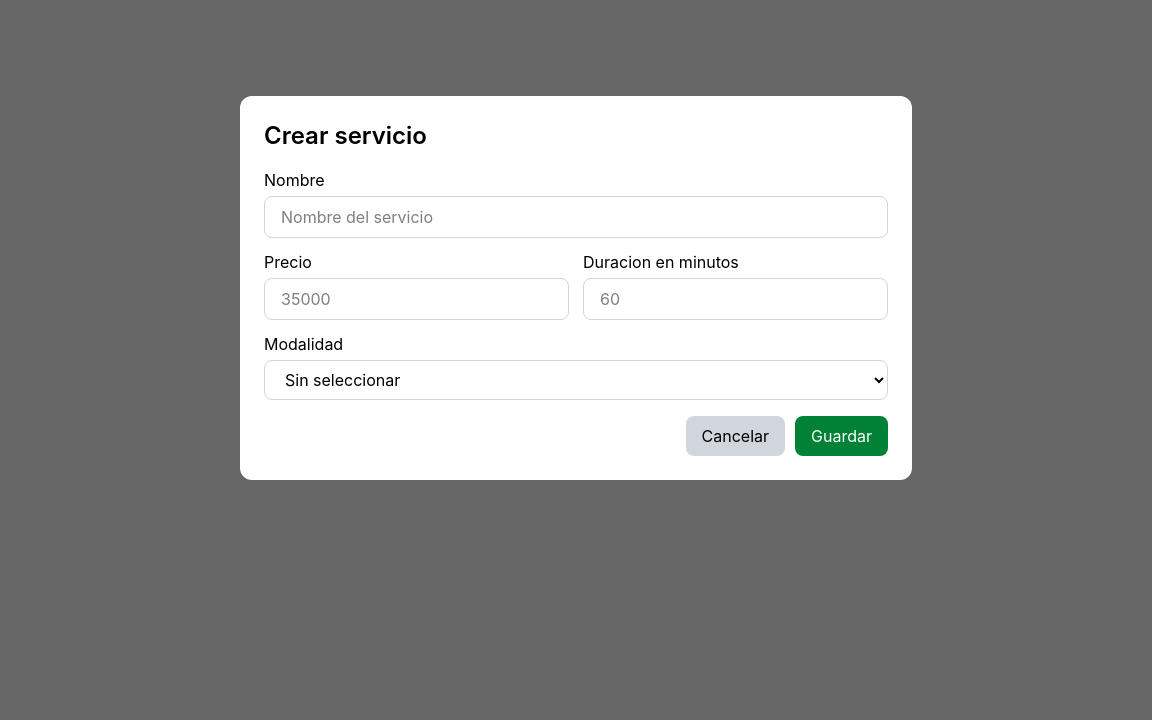
FormularioServicio › Modo creacion › muestra errores si el precio y la duración no son mayores a cero
Type "0" into the number field with placeholder "35000" at (416, 299), box 264,278 -> 569,320
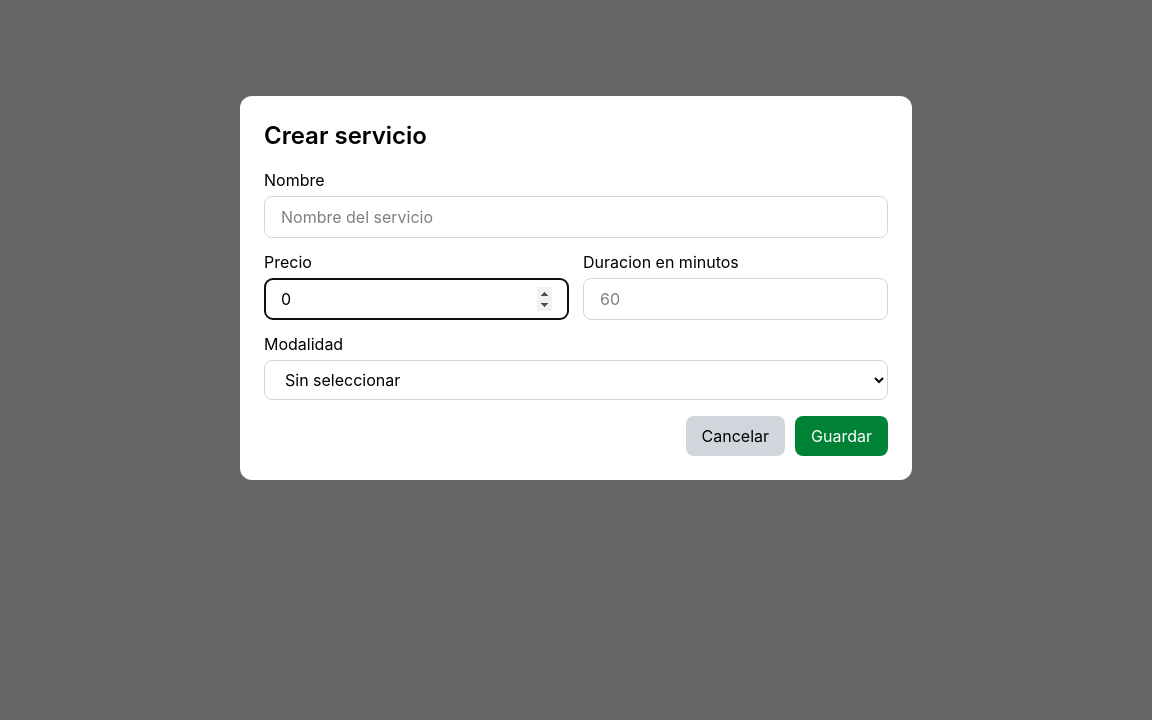
Type "0" into the number field with placeholder "60" at (736, 299), box 583,278 -> 888,320
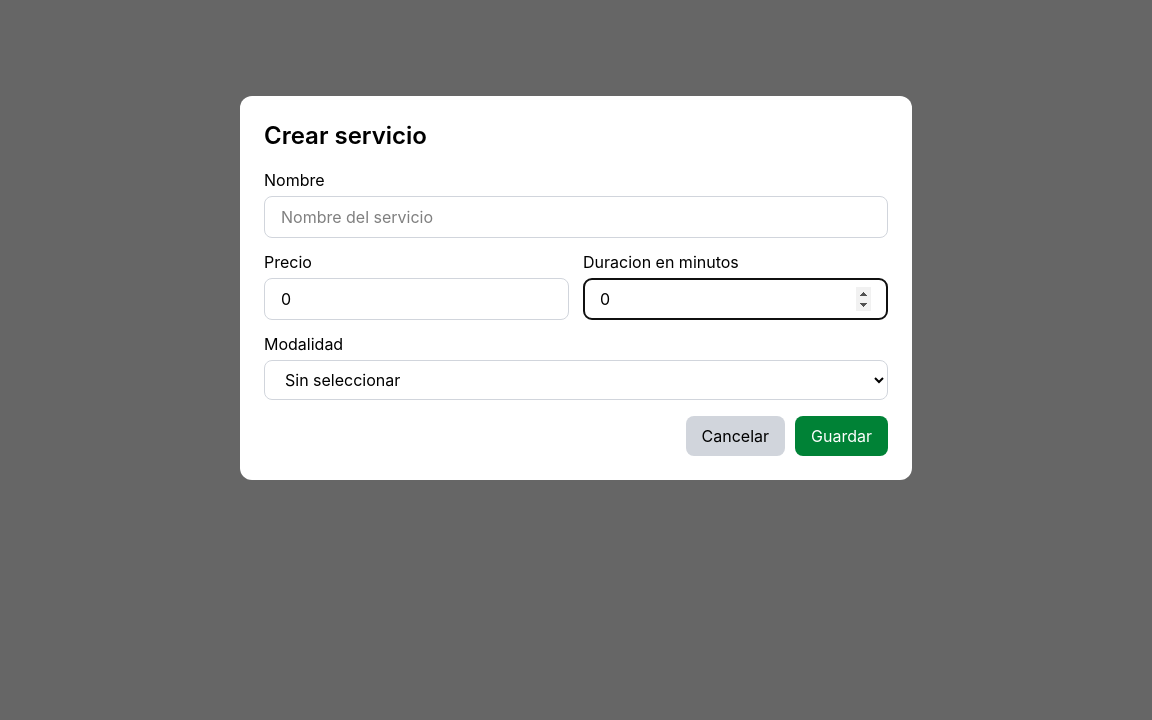
Click the button "Guardar" at (842, 436), box 795,416 -> 888,456
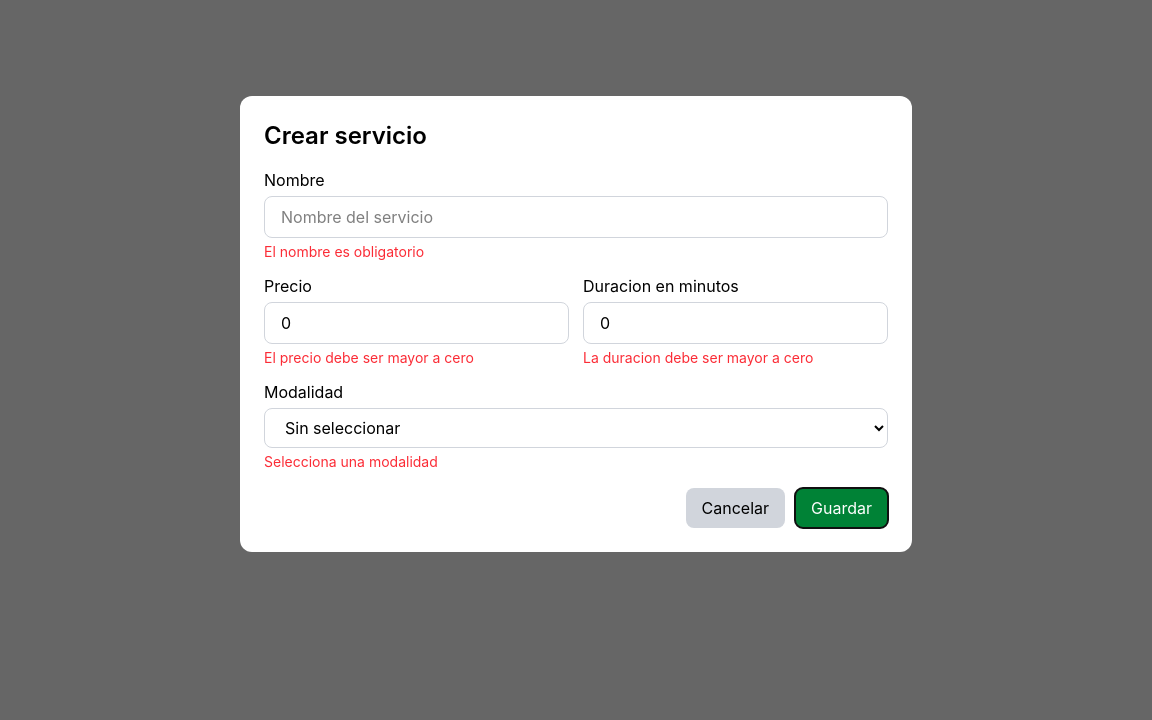
Check: the text "El precio debe ser mayor a cero" is shown, box 264,349 -> 474,366
Check: the text "La duracion debe ser mayor a cero" is shown, box 583,349 -> 813,366
